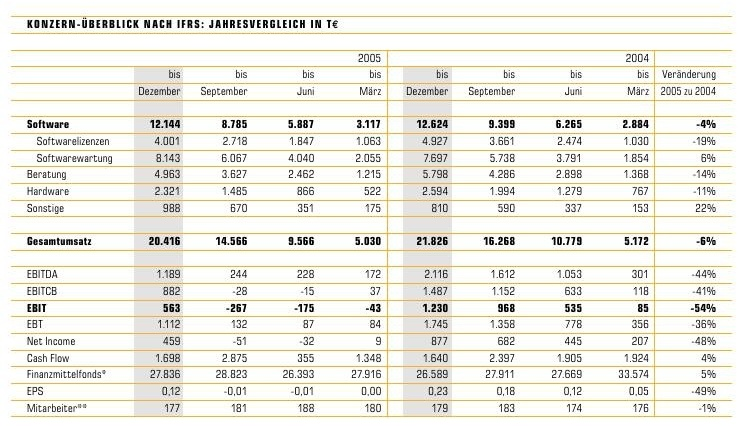table: (0, 0, 741, 426)
